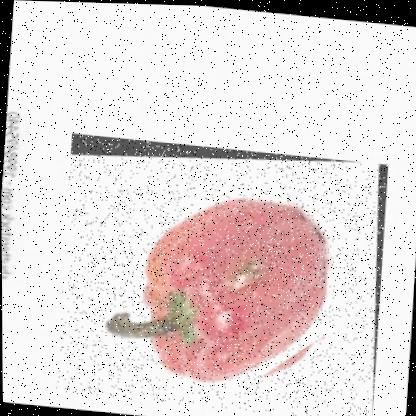capsicum_rotten: (52, 130, 390, 415)
